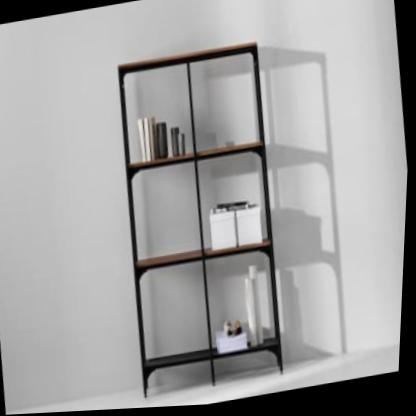Shelf: (102, 33, 304, 405)
